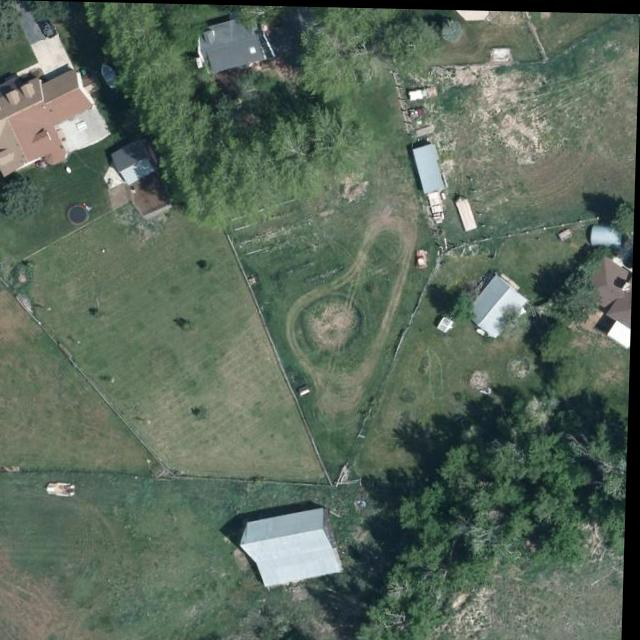vehicle: (31, 7, 60, 40), (410, 84, 438, 100), (414, 247, 431, 268)
